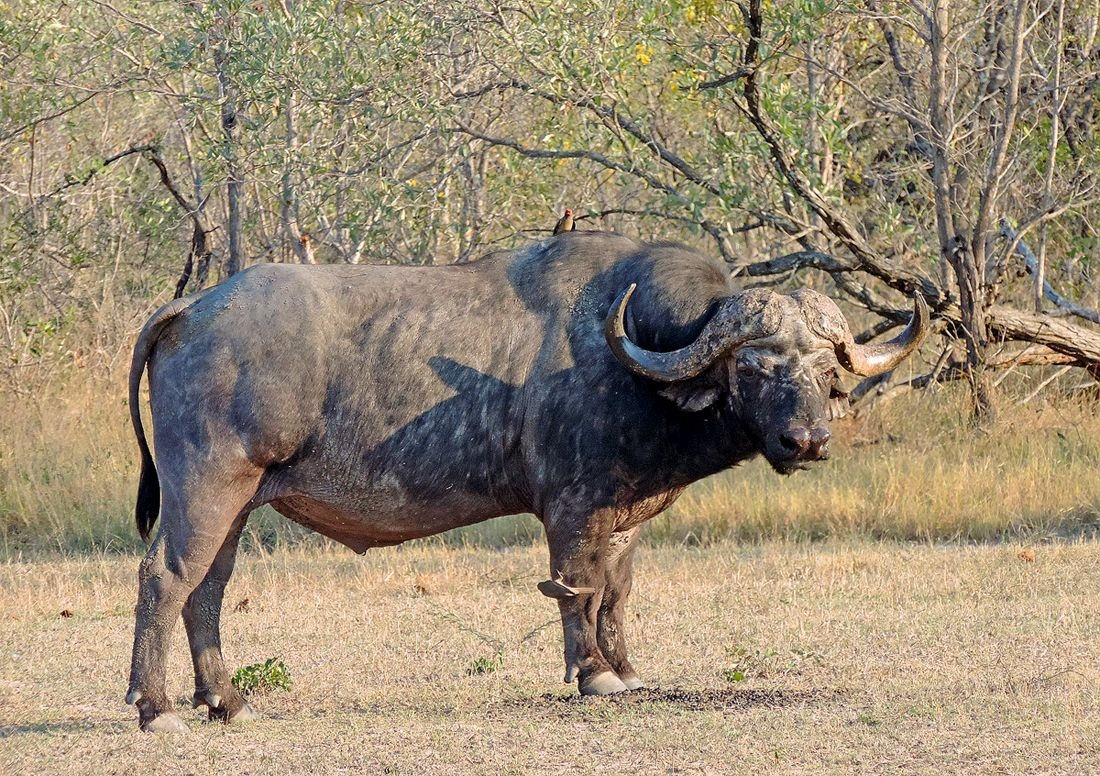buffalo: (122, 232, 927, 734)
